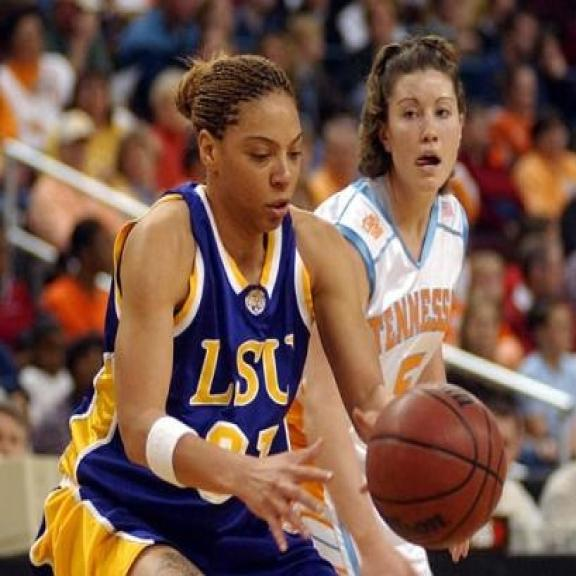face: (205, 95, 305, 236), (374, 59, 466, 204), (76, 70, 125, 123), (530, 235, 565, 298), (87, 219, 120, 278), (33, 323, 69, 376), (471, 250, 507, 302), (70, 346, 105, 398), (15, 13, 52, 62), (544, 300, 572, 360), (535, 116, 570, 164), (264, 38, 299, 86), (511, 68, 542, 119), (471, 309, 500, 363), (115, 142, 155, 180), (368, 2, 397, 51), (511, 7, 537, 56), (541, 32, 567, 80), (57, 139, 92, 173)
